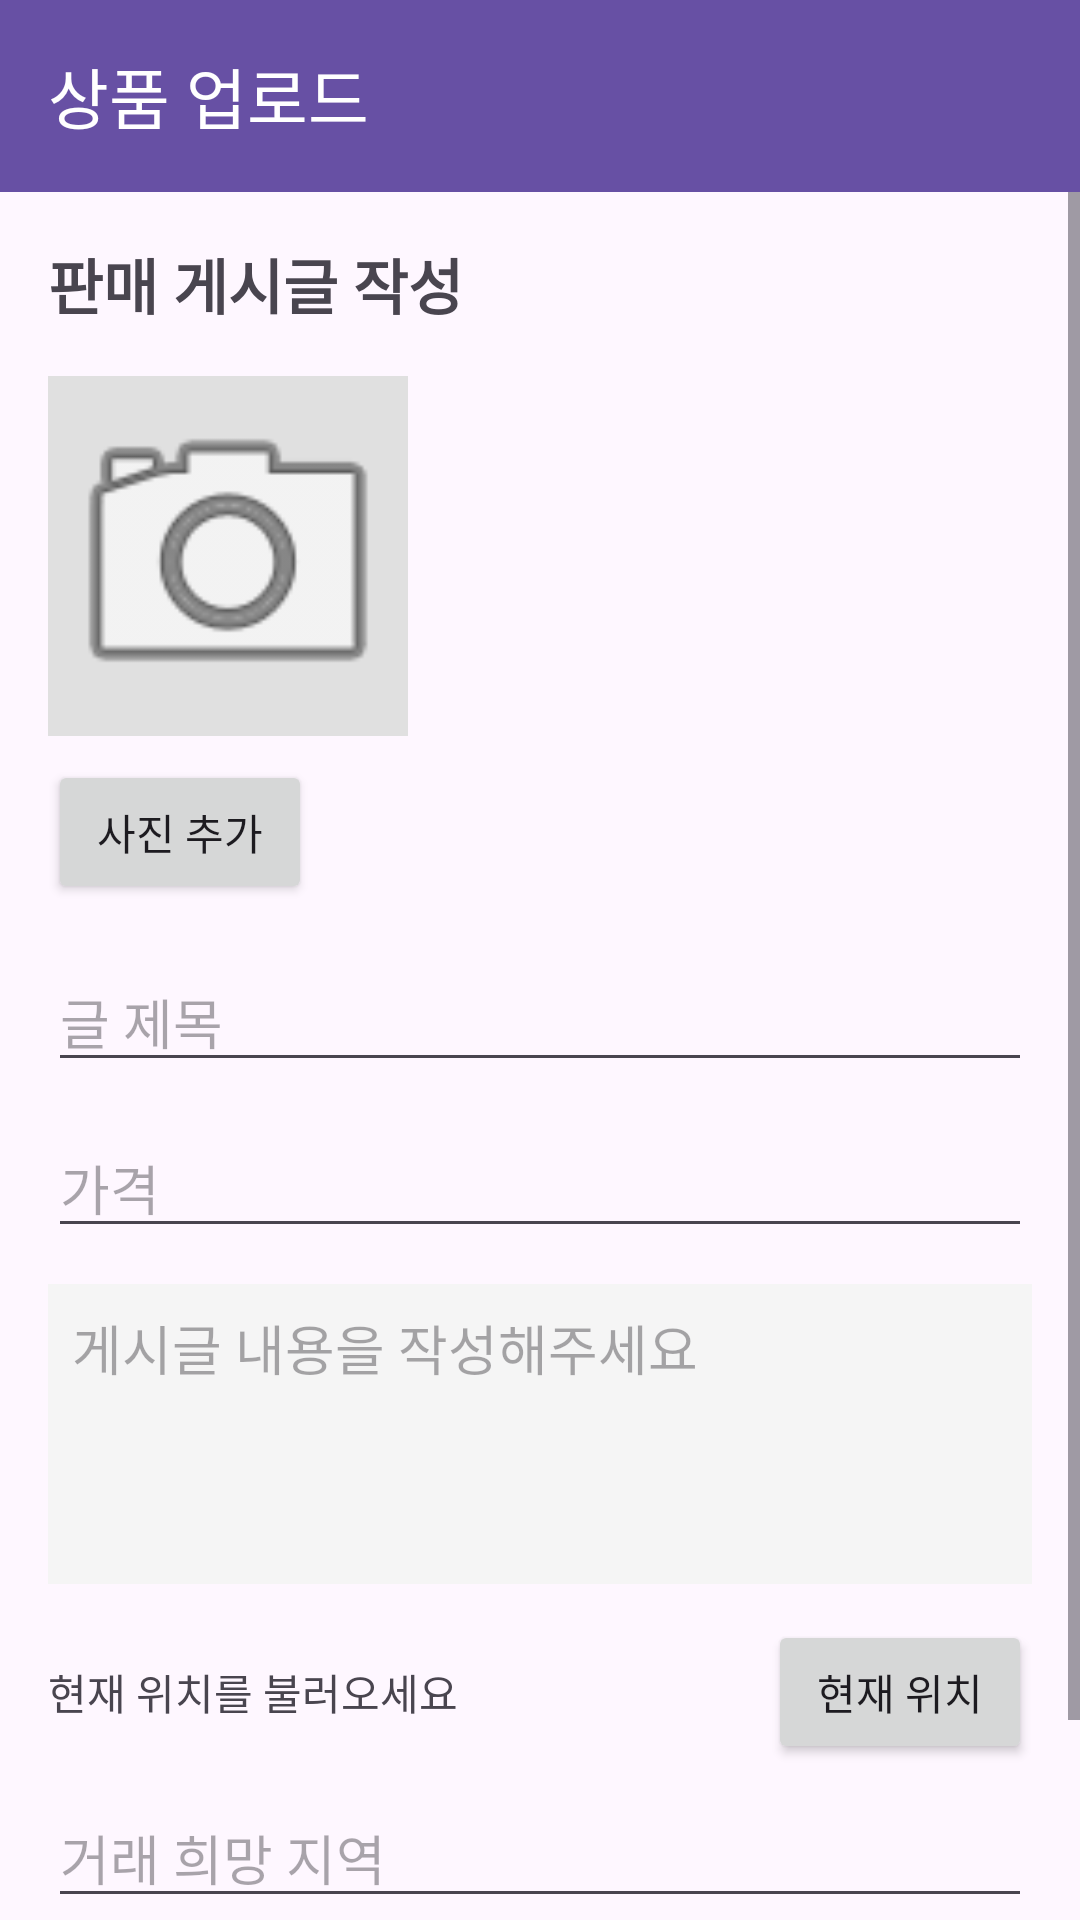

Locate icon controls on the screen. Image size 1080×1920, boxes as (x1, y1, x2, y2).
camera: (48, 376, 408, 736)
